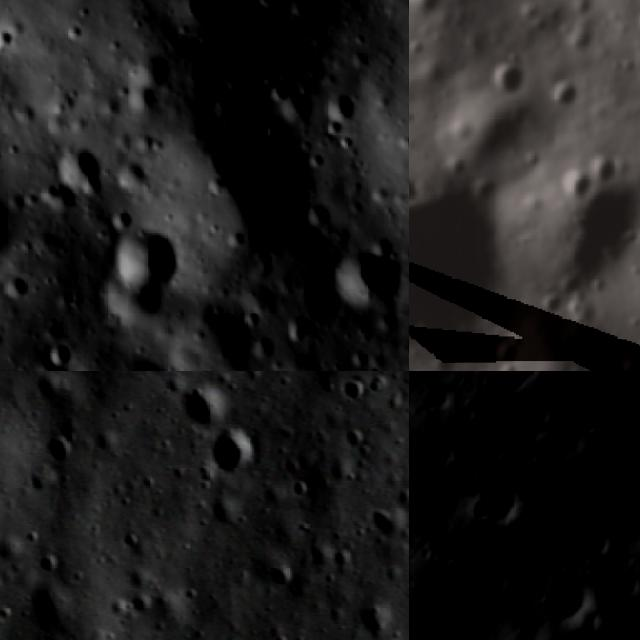crater: (409, 173, 508, 345), (178, 120, 314, 242), (557, 175, 640, 343), (104, 215, 185, 287), (323, 246, 403, 316), (92, 272, 164, 329), (183, 0, 302, 33), (124, 44, 175, 114), (541, 571, 594, 633), (54, 138, 106, 198), (203, 421, 254, 481), (177, 387, 233, 438), (471, 476, 529, 525), (349, 594, 400, 640), (275, 80, 319, 127), (35, 175, 77, 217), (489, 52, 526, 99), (365, 503, 404, 546), (549, 67, 580, 116), (319, 88, 358, 124), (35, 435, 75, 470), (264, 558, 300, 596), (58, 16, 94, 53), (3, 268, 37, 305), (593, 150, 627, 187), (280, 307, 312, 346), (334, 425, 367, 460), (560, 168, 597, 199), (43, 336, 75, 371), (338, 372, 368, 408), (538, 290, 564, 326), (0, 24, 22, 58), (253, 0, 287, 14), (409, 169, 421, 208)
